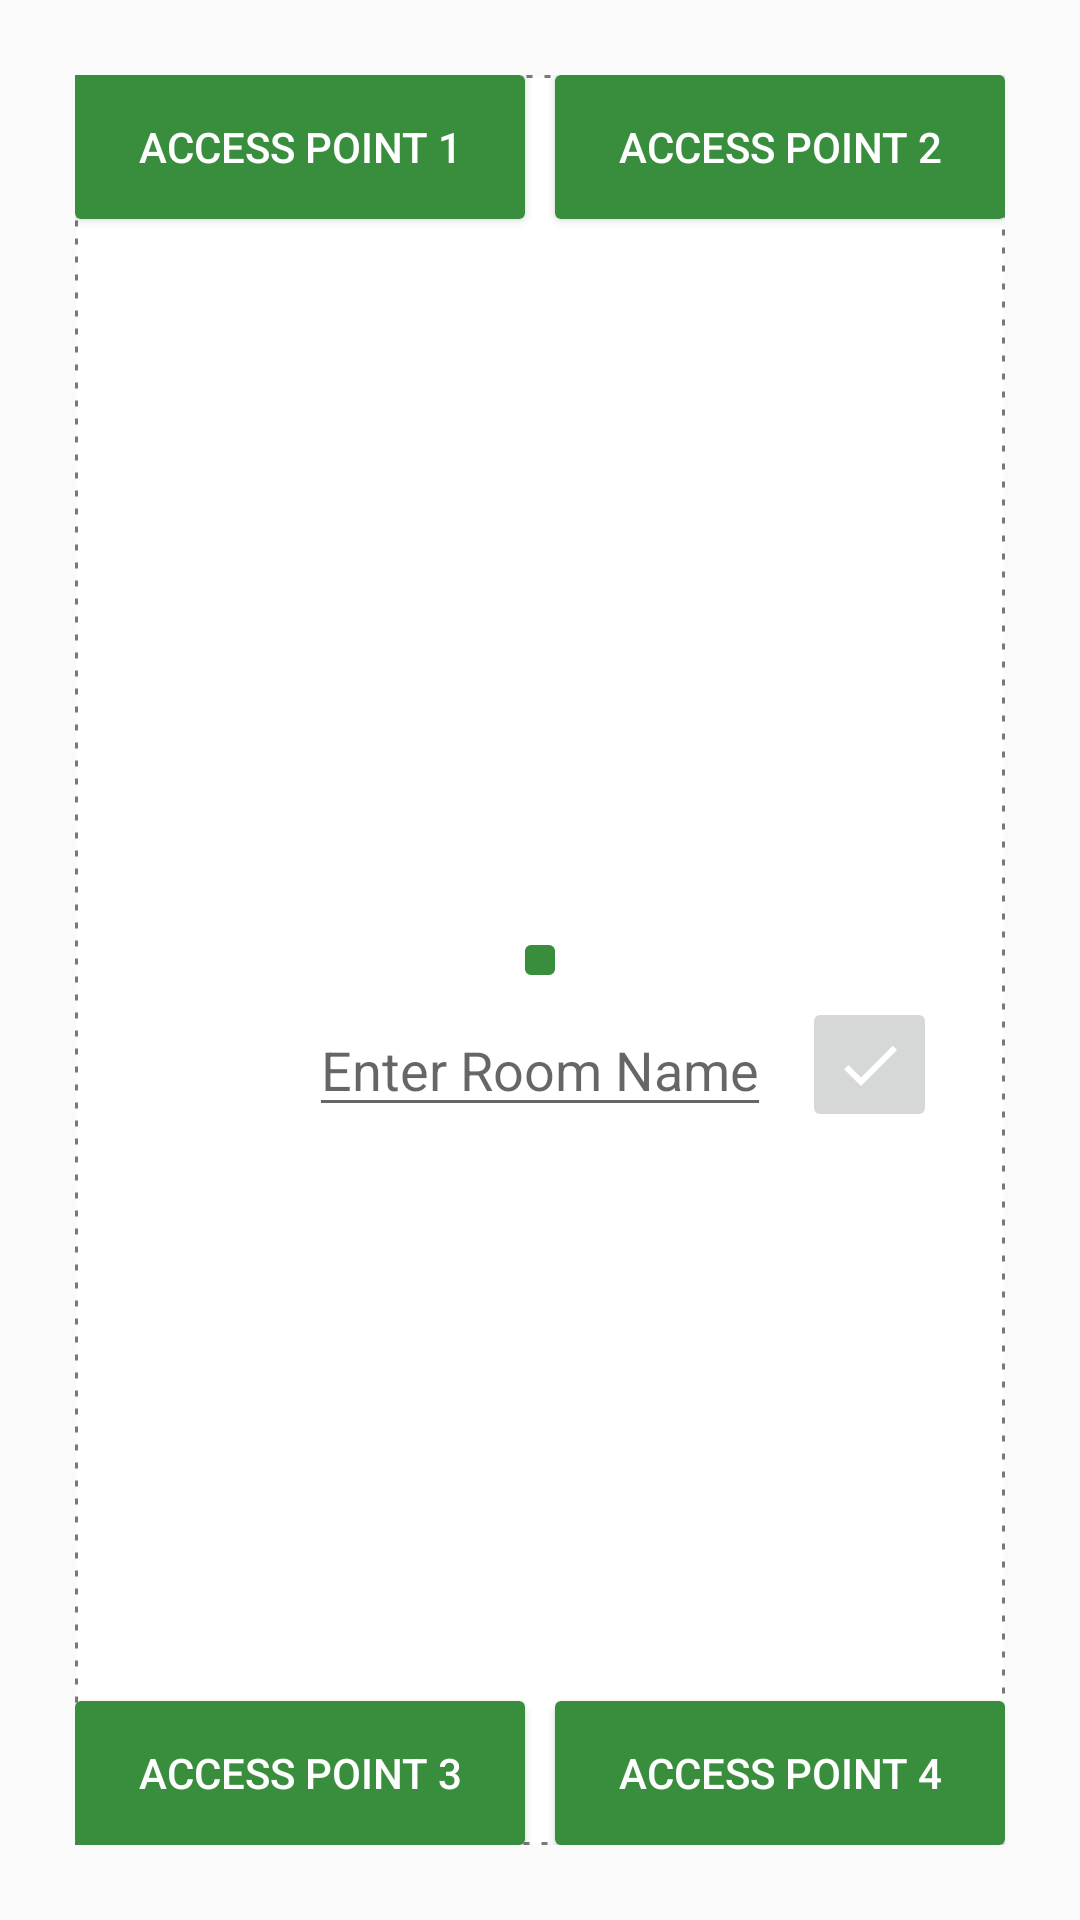

Icon bounding boxes for this 1080w x 1920h phone screenshot, format (x1, y1, x2, y2):
done: (814, 1015, 925, 1114)
